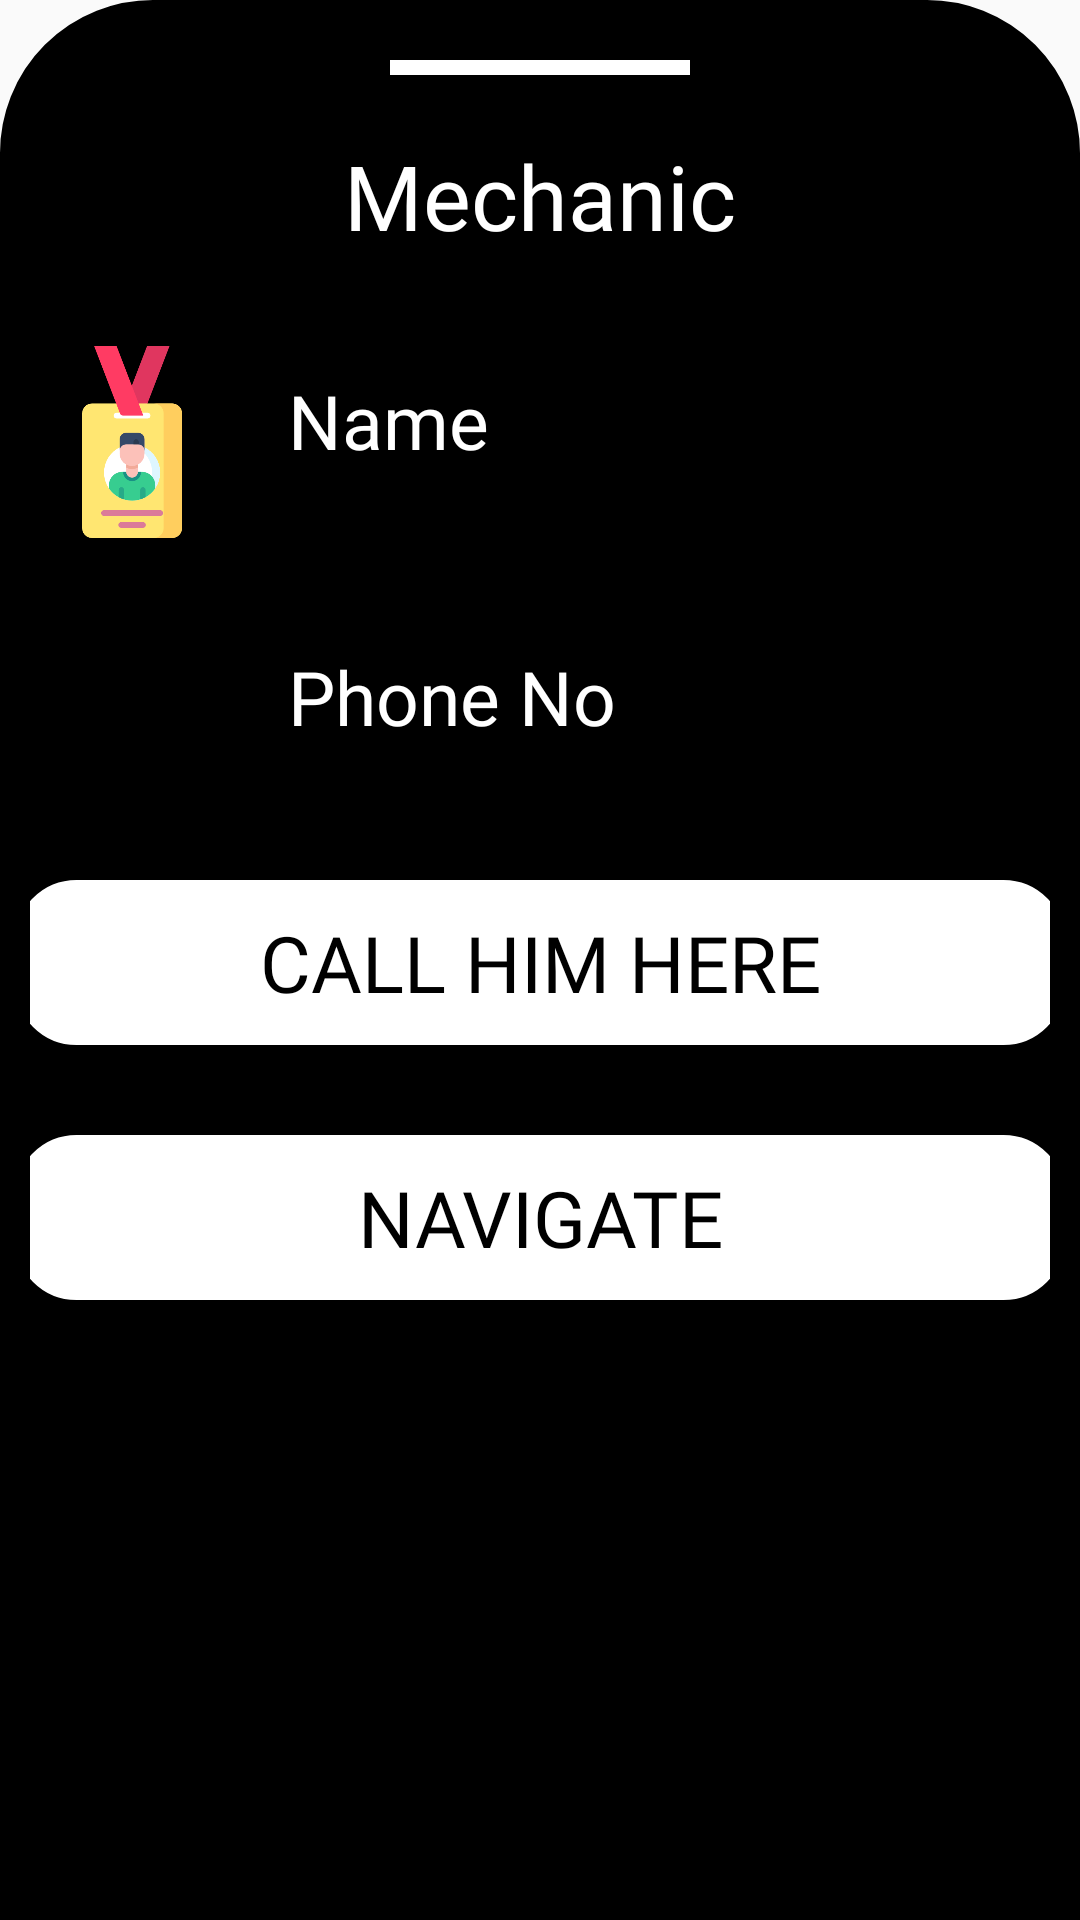

Icons on this 1080w x 1920h Android screen, each with its box as (x1, y1, x2, y2):
idcard: (82, 346, 182, 538)
